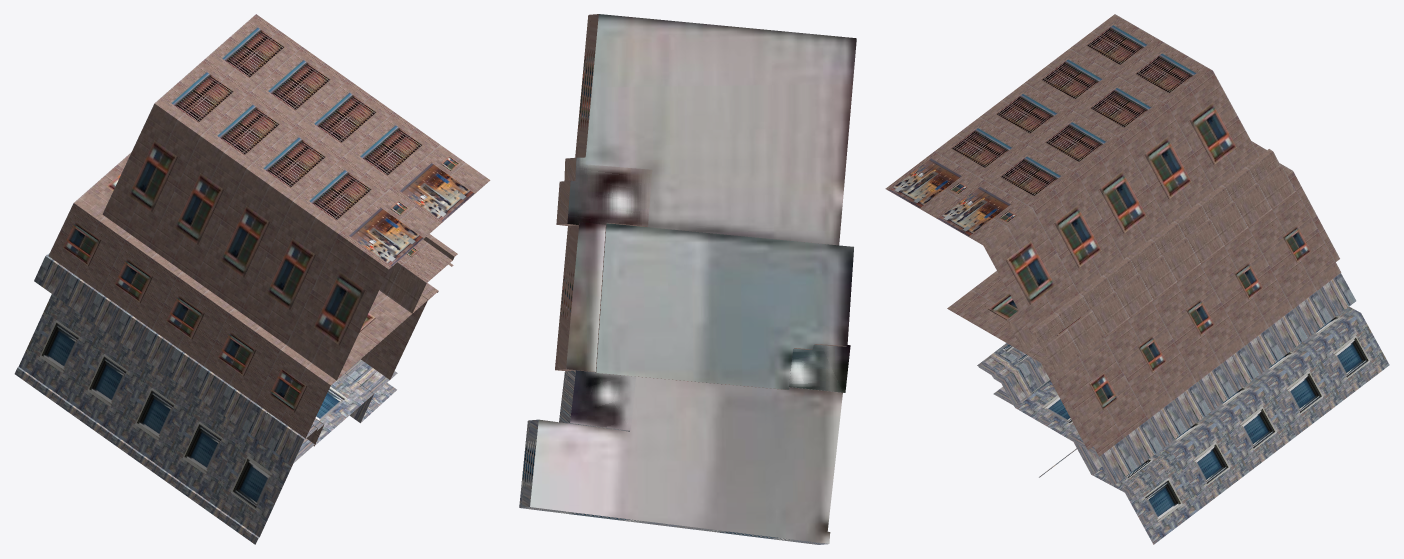
3 renders of one model, left to right at view 1: azimuth 30°, elevation 25°; view 2: azimuth 150°, elevation 25°; view 3: azimuth 270°, elevation 25°, orthographic. The views are drawn at different scales.
Size of the model in its own units: 19.94 by 25.85 by 25.94.
26 materials, 26 textured.
